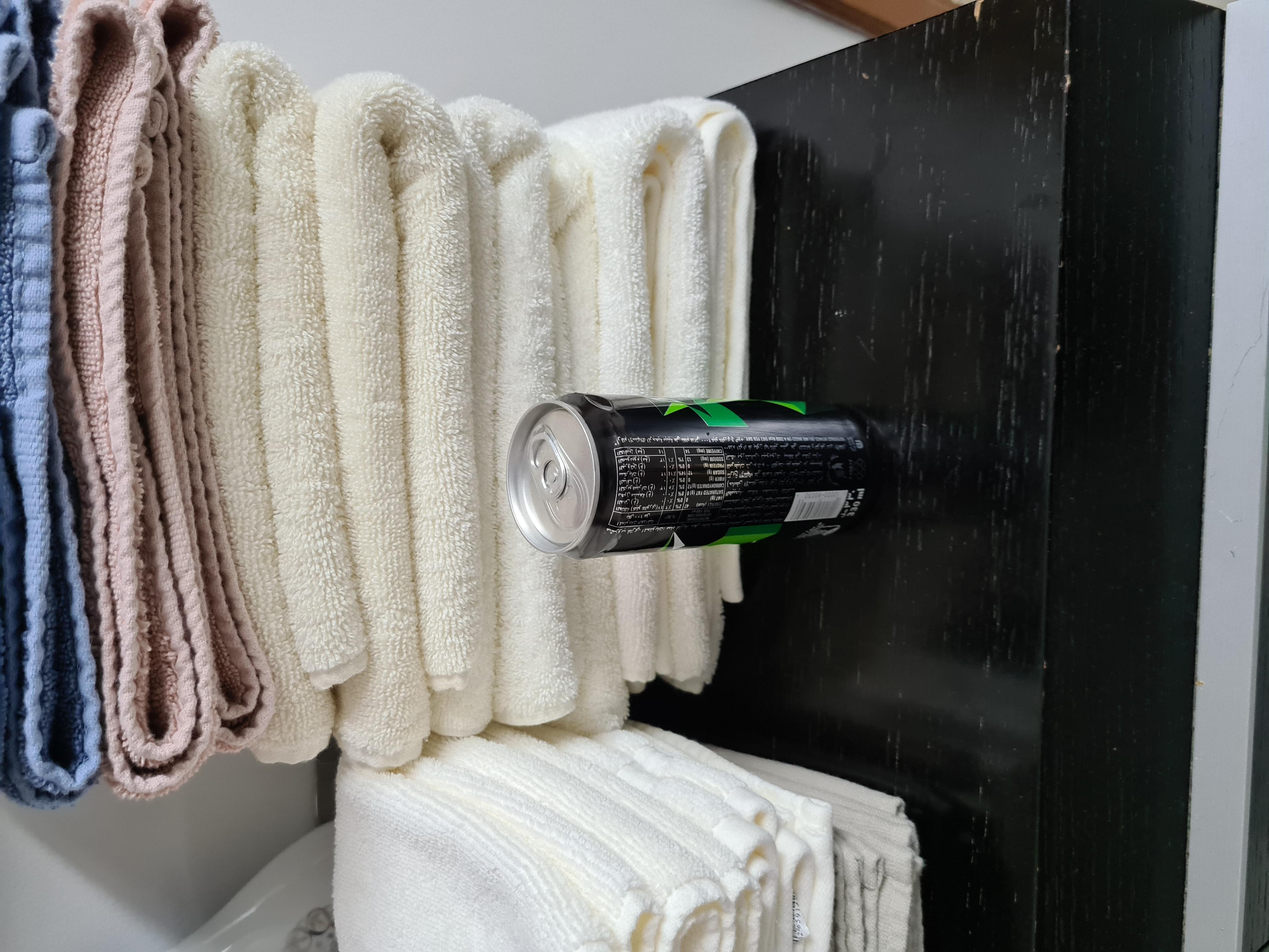debris: (495, 368, 877, 576)
